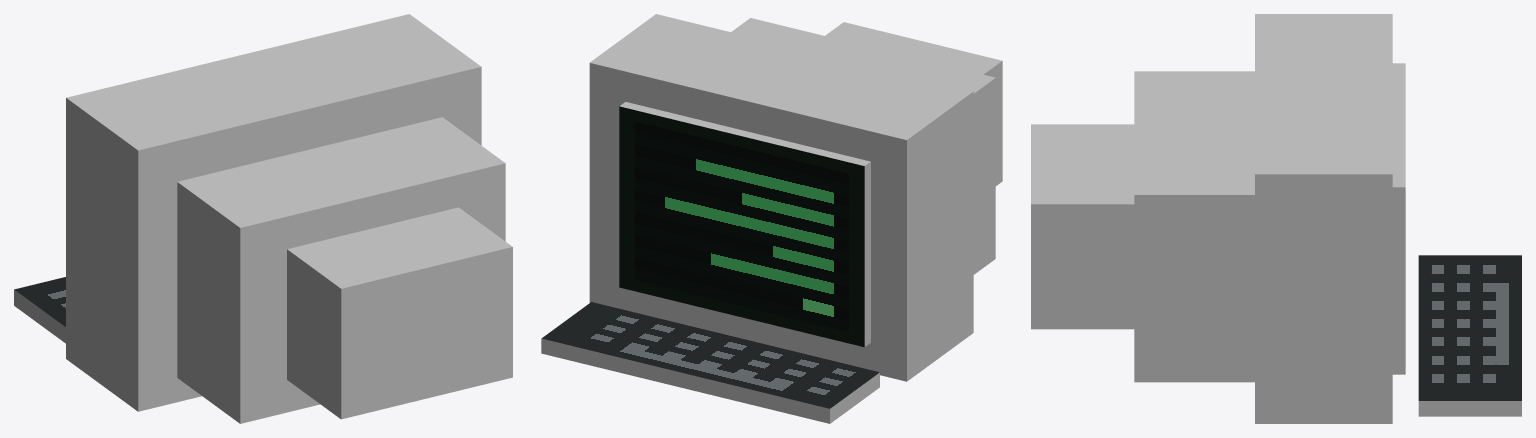
File: desk_round_crt_mirrored.obj
The picture shows the model from 3 angles, left to right: view 1: azimuth 30°, elevation 25°; view 2: azimuth 150°, elevation 25°; view 3: azimuth 270°, elevation 25°; orthographic projection. The views are drawn at different scales.
Visible parts, largest first — view 1: desk_round_crt_mirrored; view 2: desk_round_crt_mirrored; view 3: desk_round_crt_mirrored.
Part boxes in pixels (box(x1,y1,x2,y2)): desk_round_crt_mirrored: box(14, 14, 512, 423); desk_round_crt_mirrored: box(541, 14, 1002, 423); desk_round_crt_mirrored: box(1031, 14, 1521, 423).
Bounding box in the file's own units: 0.44 × 0.32 × 0.57.
